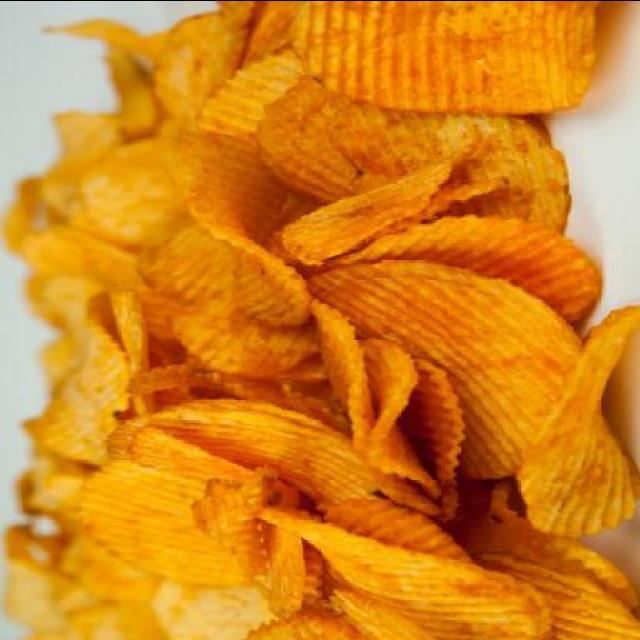Chips packaged: (52, 14, 610, 622)
